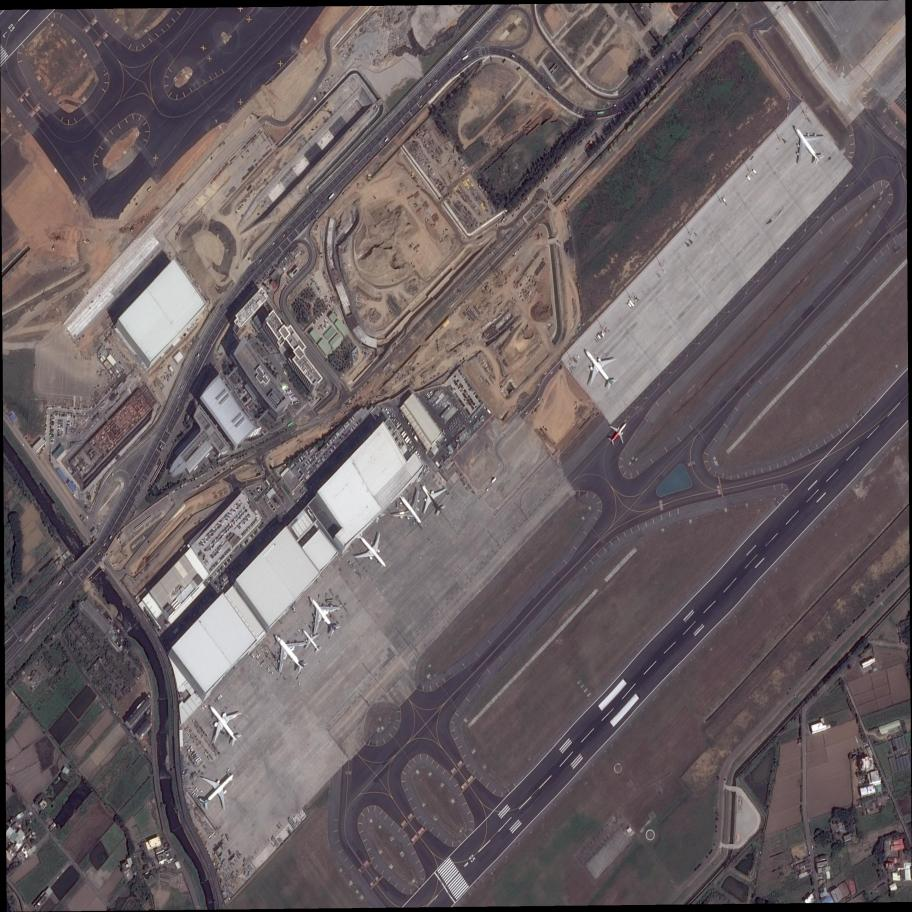large-vehicle: (486, 409, 492, 414)
plane: (183, 755, 251, 824), (774, 109, 838, 178), (565, 333, 629, 401), (192, 690, 256, 756), (256, 621, 319, 687), (295, 582, 356, 647), (343, 519, 404, 582), (383, 481, 439, 539), (405, 473, 459, 527), (293, 622, 329, 660), (600, 416, 635, 450)
